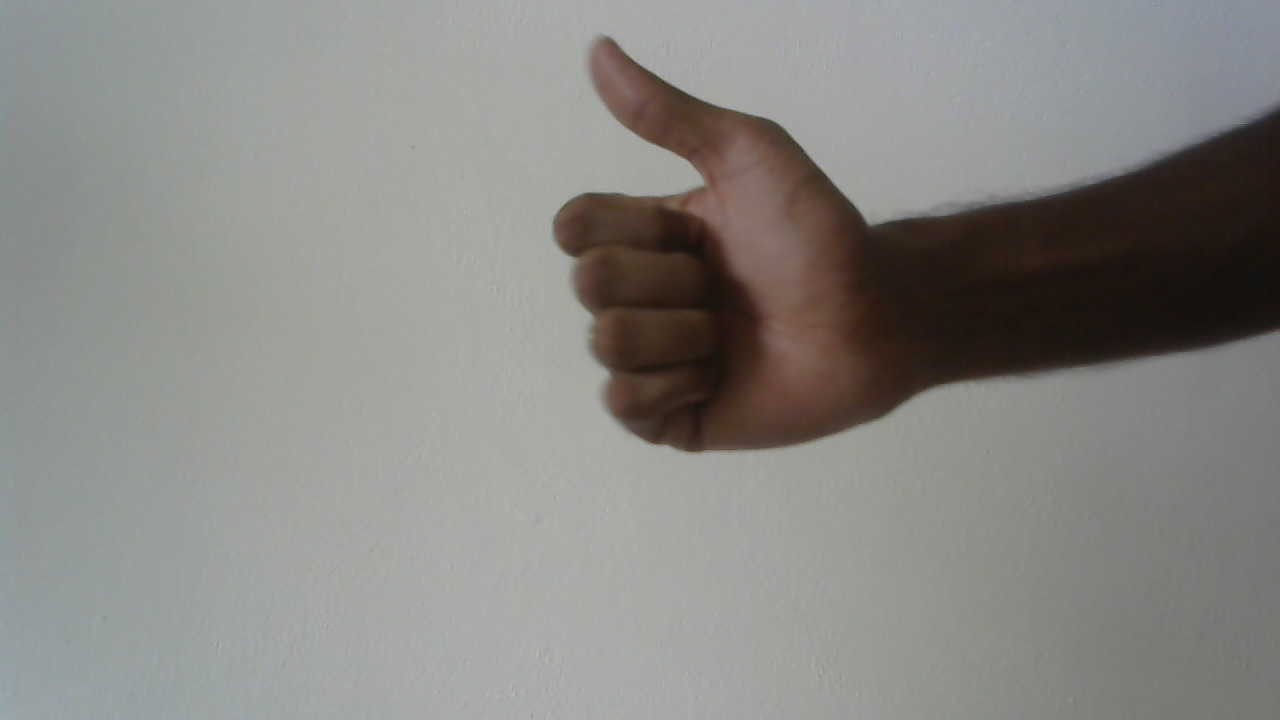thumbsup: (541, 20, 940, 482)
